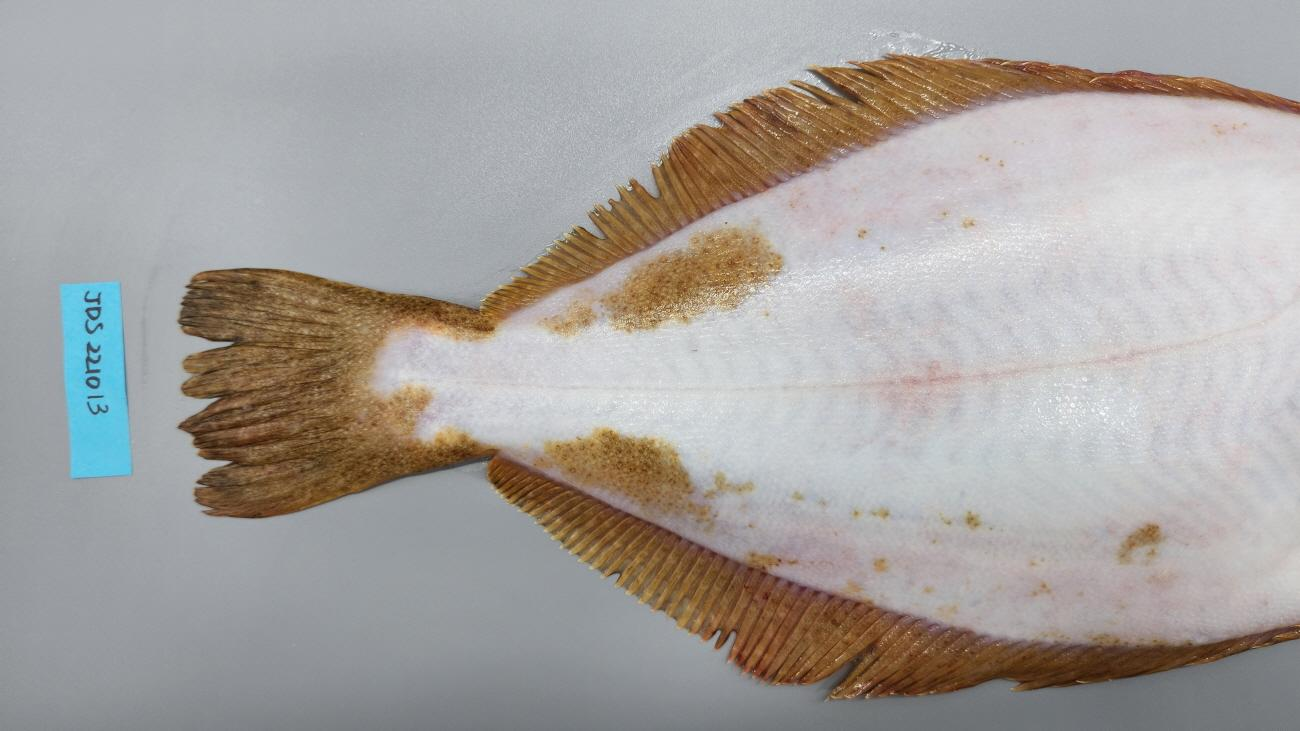POOUN: (176, 52, 1300, 702)
